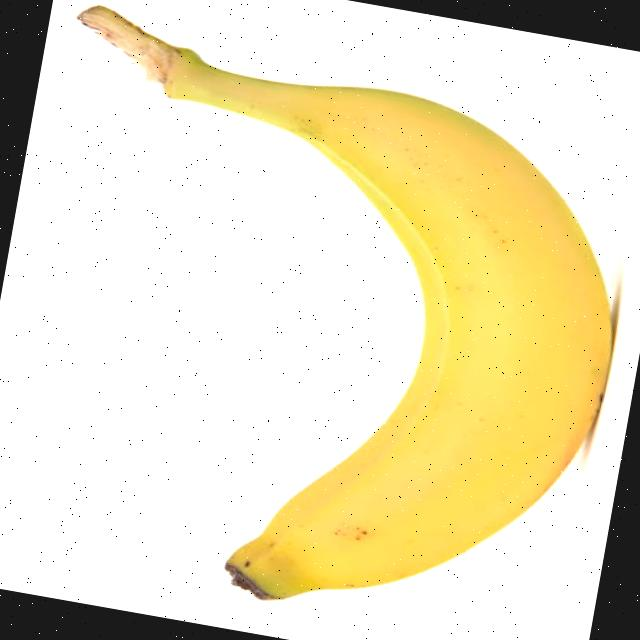Ripe: (75, 45, 640, 640)
